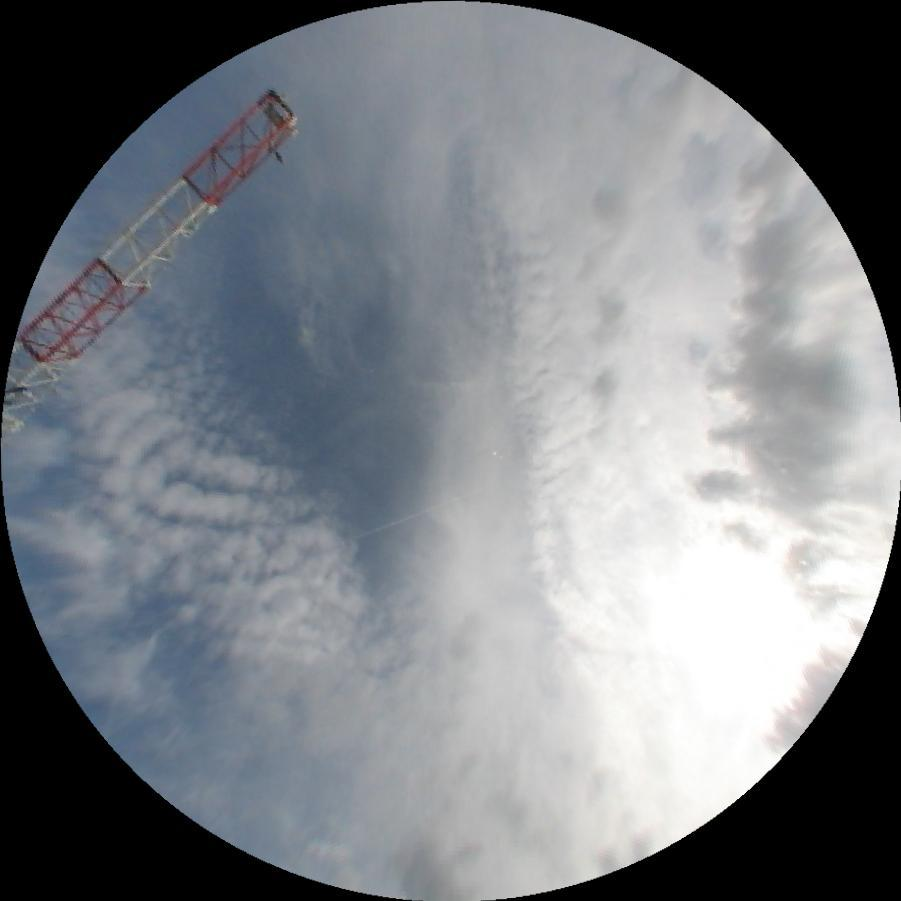contrail young: (342, 486, 480, 544)
sun: (616, 508, 841, 750)
